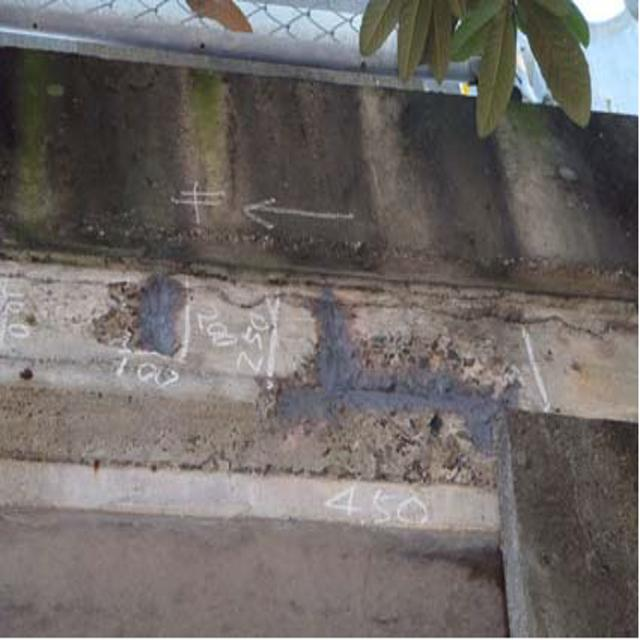spalling: (16, 258, 518, 482)
